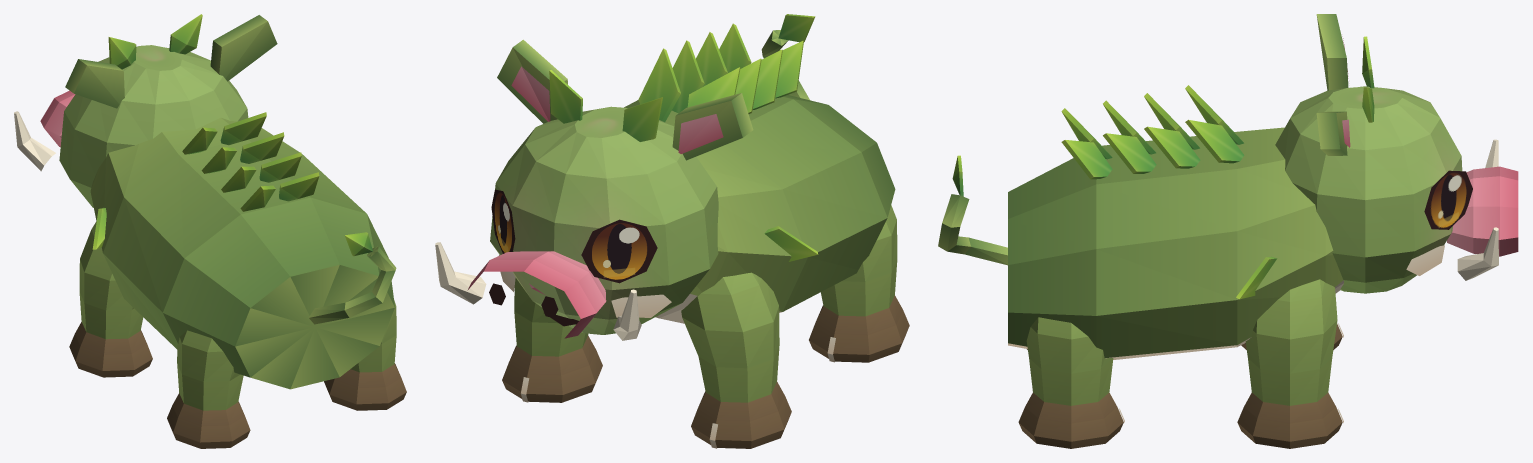
Rendered from BrambleBoar_S3_FacetedReview.glb.
3 views of the same model, side by side, from view 1: azimuth 30°, elevation 25°; view 2: azimuth 150°, elevation 25°; view 3: azimuth 270°, elevation 25° (orthographic). The views are drawn at different scales.
Visible parts, largest first — view 1: Body, Head, LeftBackLeg, LeftFrontLeg, RightBackLeg, RightEar, LeftEar, Tail, LeftTusk, Snout, RightBrambleRidge0, RightBrambleRidge1 (+10 smaller); view 2: Head, Body, LeftFrontLeg, LeftBackLeg, RightFrontLeg, Snout, LeftEye, LeftEar, RightEar, RightBrambleRidge0, RightTusk, LeftForeheadLeaf (+16 smaller); view 3: Body, Head, RightFrontLeg, RightBackLeg, Snout, RightEye, Tail, LeftEar, RightBrambleRidge0, RightBrambleRidge1, RightBrambleRidge2, RightEar (+7 smaller).
Boxes of the visible parts, box(x1,y1,x2,y2) form: Body: box(90, 117, 394, 389); Head: box(59, 45, 248, 207); LeftBackLeg: box(167, 330, 250, 448); LeftFrontLeg: box(69, 221, 152, 377); RightBackLeg: box(324, 300, 406, 410); RightEar: box(210, 15, 277, 81); LeftEar: box(65, 59, 124, 108); Tail: box(309, 246, 396, 324); LeftTusk: box(14, 111, 55, 171); Snout: box(40, 90, 75, 147); RightBrambleRidge0: box(220, 112, 266, 145); RightBrambleRidge1: box(240, 132, 284, 163); Head: box(490, 106, 718, 334); Body: box(624, 95, 895, 323); LeftFrontLeg: box(681, 272, 791, 448); LeftBackLeg: box(809, 205, 909, 362); RightFrontLeg: box(502, 278, 602, 402); Snout: box(467, 251, 606, 338); LeftEye: box(581, 219, 657, 283); LeftEar: box(672, 93, 753, 160); RightEar: box(497, 39, 567, 123); RightBrambleRidge0: box(638, 48, 680, 122); RightTusk: box(435, 242, 486, 304); LeftForeheadLeaf: box(622, 97, 662, 141); Body: box(1008, 127, 1343, 359); Head: box(1275, 86, 1462, 293); RightFrontLeg: box(1237, 279, 1342, 448); RightBackLeg: box(1018, 317, 1123, 448); Snout: box(1447, 166, 1518, 256); RightEye: box(1424, 170, 1472, 229); Tail: box(938, 194, 1007, 265); LeftEar: box(1316, 14, 1348, 90); RightBrambleRidge0: box(1185, 119, 1244, 163); RightBrambleRidge1: box(1144, 126, 1200, 168); RightBrambleRidge2: box(1103, 133, 1156, 173); RightEar: box(1316, 111, 1347, 155).
Bounding box in the file's own units: 4.29 × 5 × 8.06.
1 material, 1 textured.
